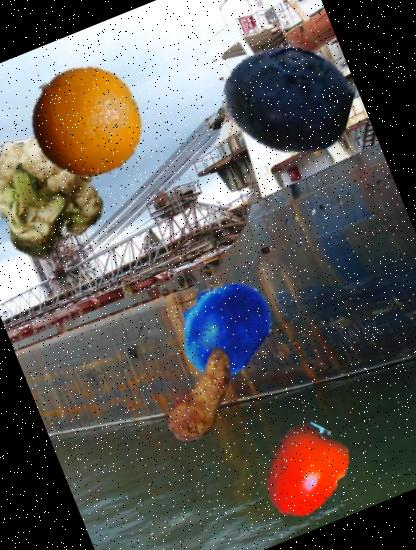Blueberry: (204, 14, 370, 181)
Cauliflower: (0, 117, 130, 280)
Huckleberry: (158, 262, 288, 392)
Kaki: (243, 410, 367, 534)
Orange: (11, 46, 160, 194)
Pear: (134, 328, 264, 457)
